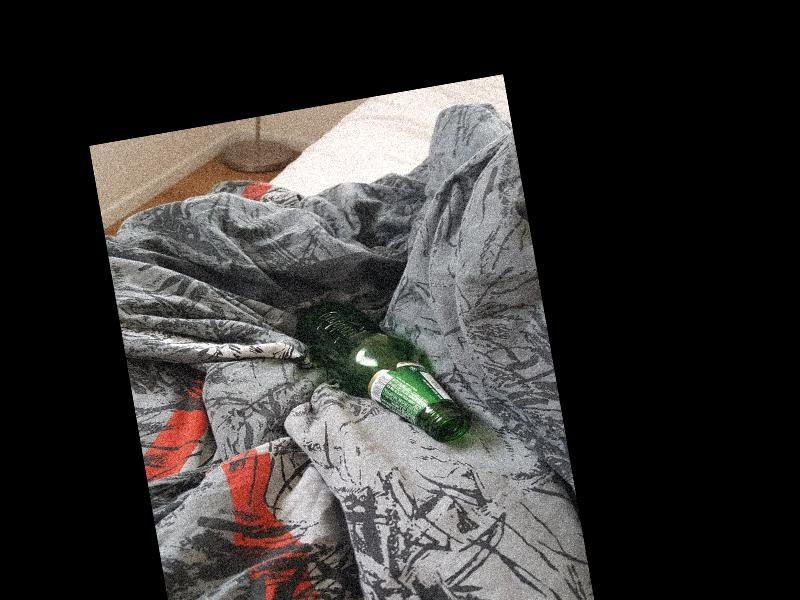Beer: (293, 282, 471, 466)
